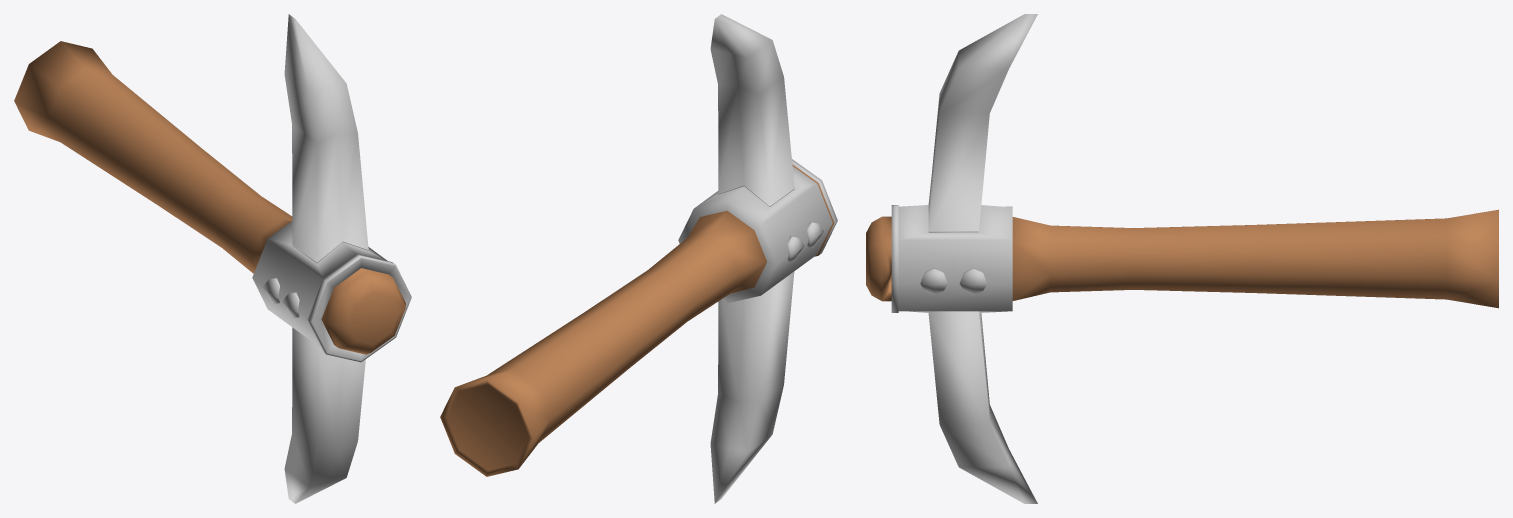
File: Pickaxe.fbx
The picture shows the model from 3 angles, left to right: view 1: azimuth 30°, elevation 25°; view 2: azimuth 150°, elevation 25°; view 3: azimuth 270°, elevation 25°; orthographic projection.
Visible parts, largest first — view 1: Pickaxe; view 2: Pickaxe; view 3: Pickaxe.
Boxes of the visible parts, x1=… form: Pickaxe: x1=14, y1=14, x2=411, y2=503; Pickaxe: x1=440, y1=14, x2=837, y2=503; Pickaxe: x1=866, y1=14, x2=1498, y2=503.
Size of the model in its own units: 32.52 by 147 by 173.
